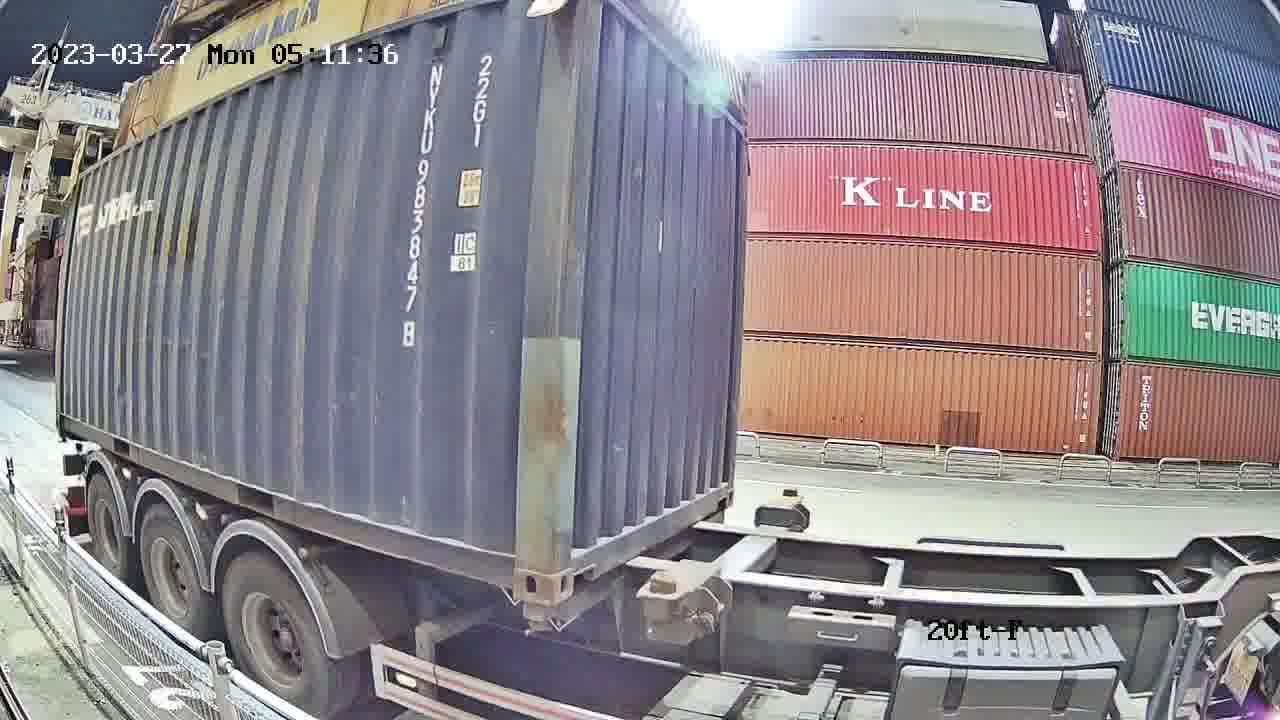Chassis: (520, 510, 726, 629)
Cone: (521, 604, 554, 637)
Hole_L: (552, 514, 601, 606)
Hole_R: (480, 525, 554, 606), (713, 470, 735, 513)
Tire: (221, 551, 332, 715), (139, 506, 206, 639), (87, 479, 129, 579)
